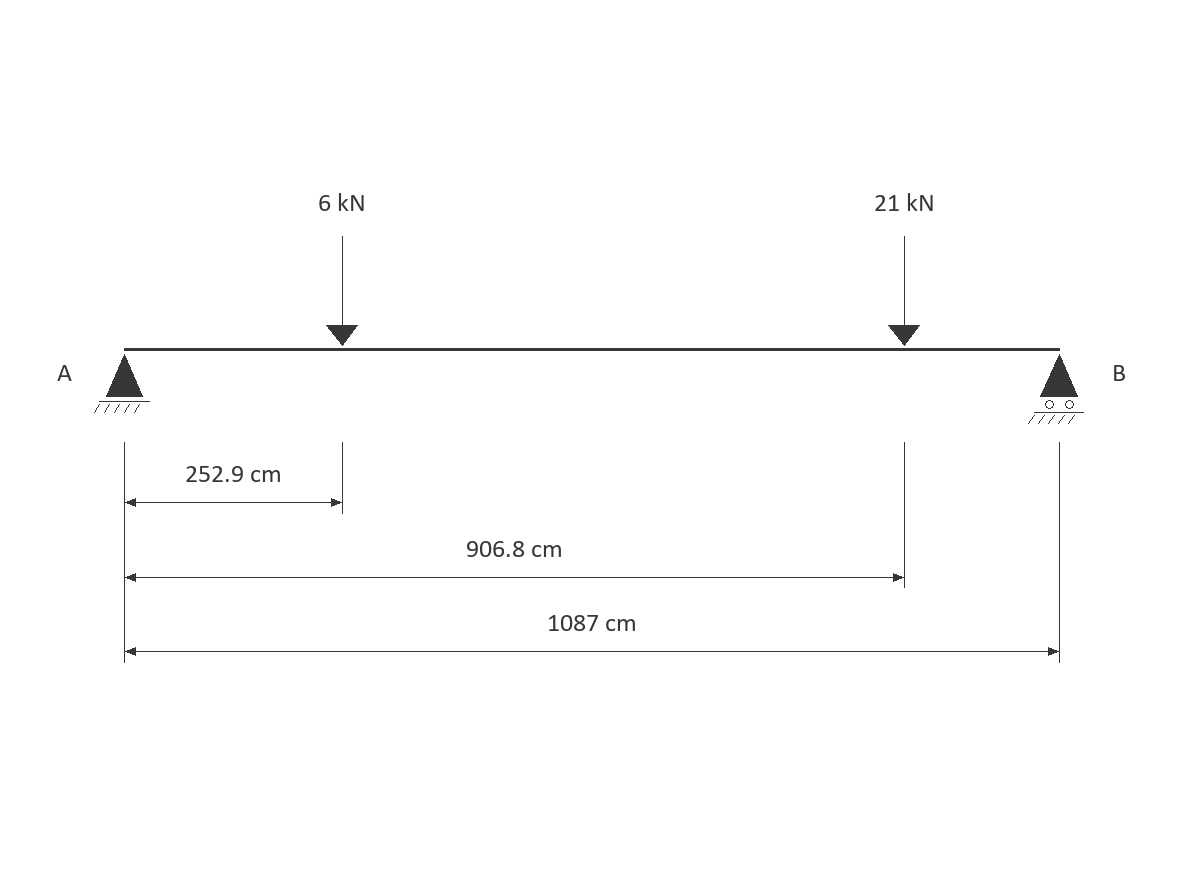pin_support: (94, 354, 150, 413)
point_load: (326, 236, 358, 346), (888, 236, 920, 346)
roller_support: (1028, 354, 1084, 424)
